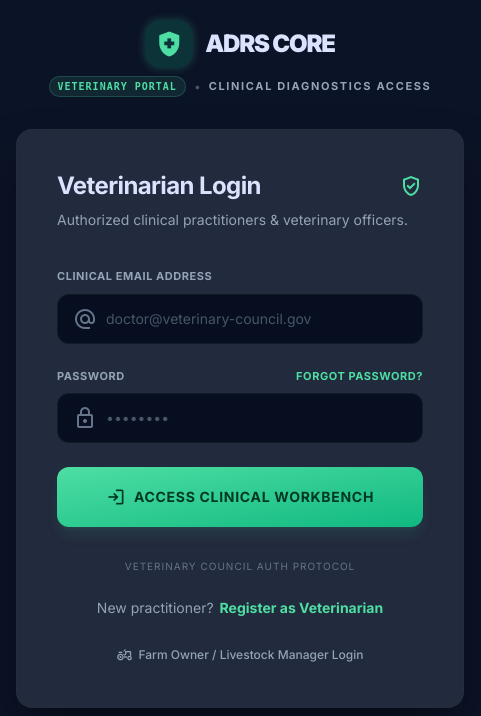
it: VetLogin Component › fails closed when an unsupported role is returned
In the field with placeholder "doctor@veterinary-council.gov": (240, 319) [57,294,423,344], type "john@farm.com"
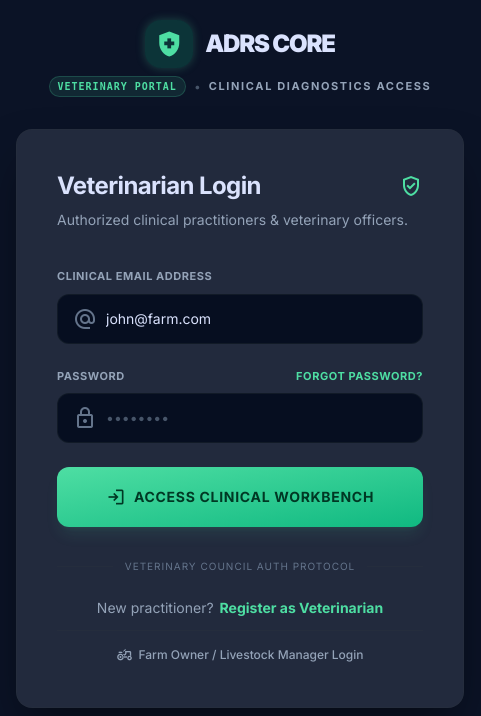
In the password field with placeholder "••••••••": (240, 418) [57,392,423,442], type "securePass123"
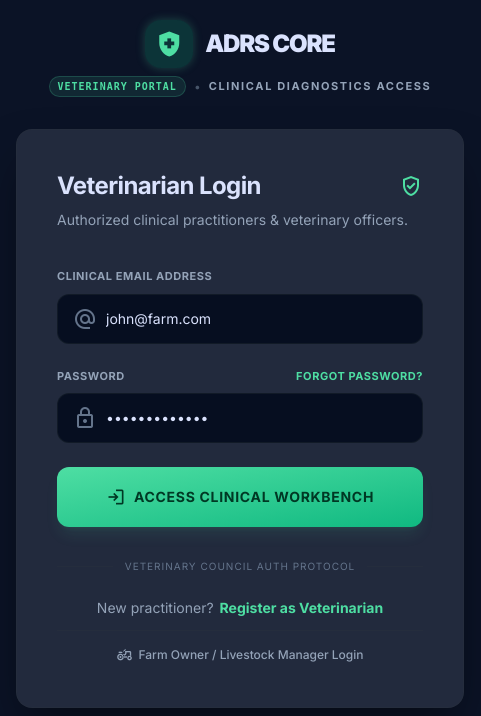
Click the button "Access Clinical Workbench": (240, 496) [57,466,423,526]
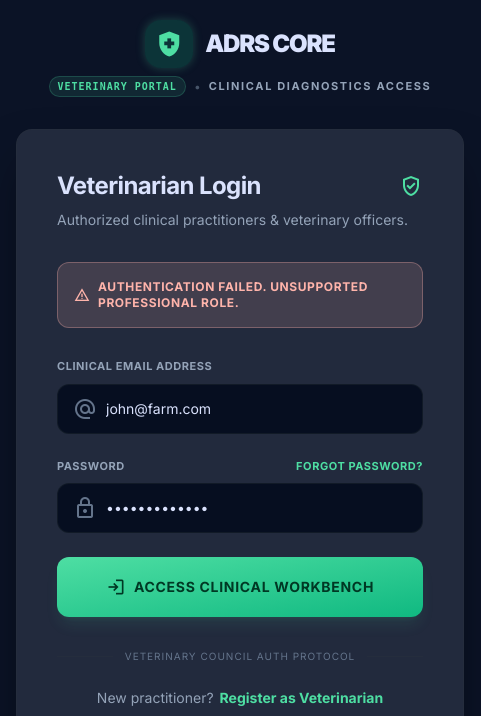
Check: the text "Authentication failed. Unsupported professional role." is shown, box [98,279,406,311]
